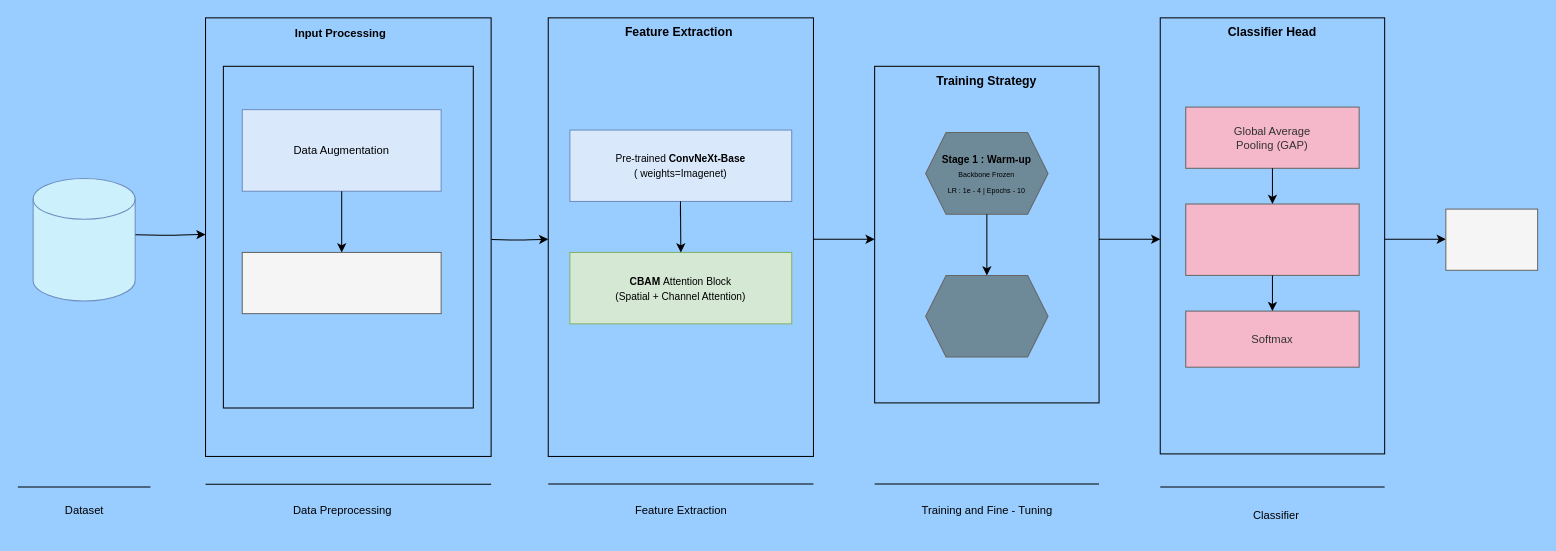
This 1556x551 diagram has some shape labels left out. The centre of each missing label's shape, as x and y in pixels:
"Bean Leaf Disease Dataset" goes at (83,239).
"Dense Layer (256, ReLU, L2 Reg)" goes at (1272,239).
"Output" goes at (1491,239).
"Preprocessing ( ConvNeXt Scaling)" goes at (341,282).
"Stage 2 : Fine Tuning Unfreeze top 50 layers LR : 1e - 5 | Epochs - 5" goes at (986,315).
